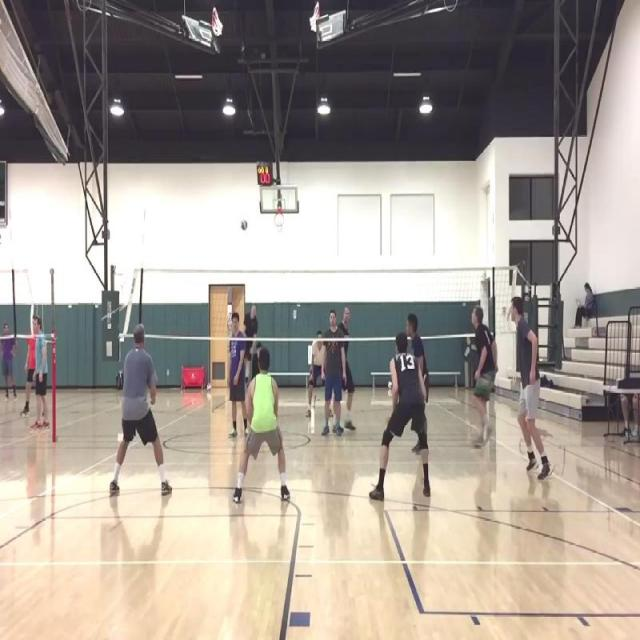volleyball: (241, 220, 247, 230)
